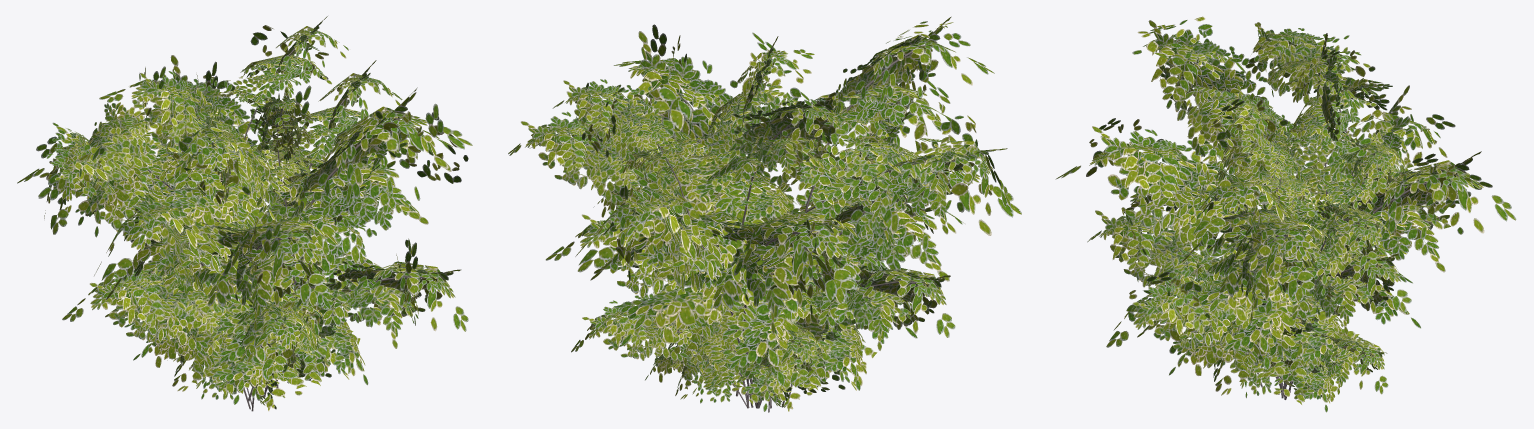
Rendered from bush.gltf.
3 views of the same model, side by side, from view 1: azimuth 30°, elevation 25°; view 2: azimuth 150°, elevation 25°; view 3: azimuth 270°, elevation 25° (orthographic). The views are drawn at different scales.
Visible parts, largest first — view 1: 灌木树02; view 2: 灌木树02; view 3: 灌木树02.
Part boxes in pixels (x1,y1,x2,y2): 灌木树02: (17,16,472,411); 灌木树02: (508,16,1021,412); 灌木树02: (1055,16,1516,412).
Size of the model in its own units: 2.06 by 1.57 by 1.99.
1 material, 1 textured.
